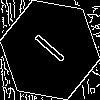I: (25, 25, 67, 65)
